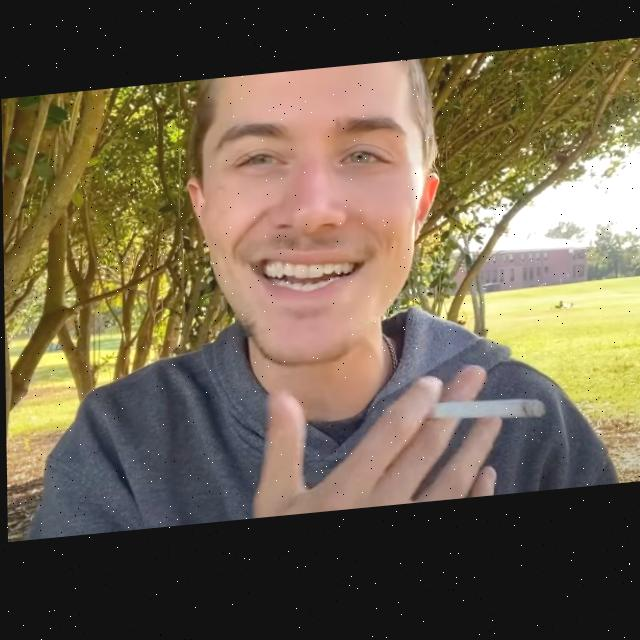cigarette: (425, 403, 544, 436)
